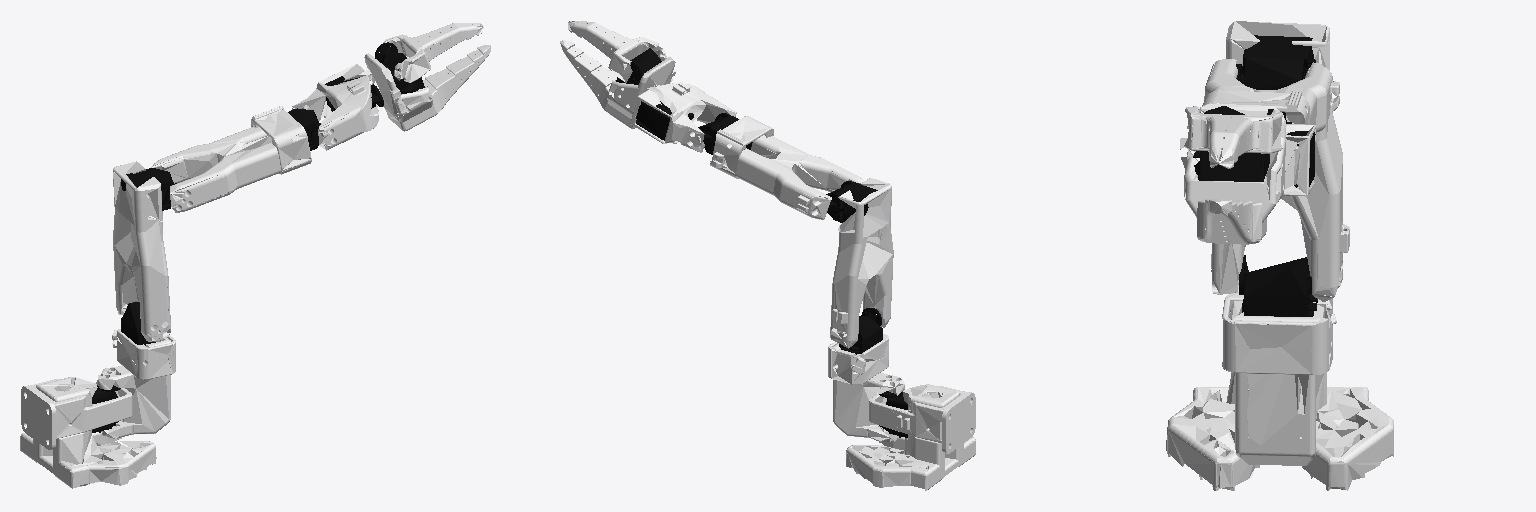
robot.urdf — so101_new_calib:
<?xml version="1.0" encoding="utf-8"?>
<!-- Generated using onshape-to-robot -->
<!-- Onshape https://cad.onshape.com/documents/7715cc284bb430fe6dab4ffd/w/4fd0791b683777b02f8d975a/e/826c553ede3b7592eb9ca800 -->
<robot name="so101_new_calib">

  <!-- Materials -->
  <material name="3d_printed">
    <color rgba="0.95 0.95 0.95 1.0"/>
  </material>
  <material name="sts3215">
    <color rgba="0.1 0.1 0.1 1.0"/>
  </material>

  <!-- Link base -->
  <link name="base_link">
    <inertial>
      <origin xyz="0.0137179 0 0.0334843" rpy="0 0 0"/>
      <mass value="0.147"/>
      <inertia ixx="0.000114686" ixy="0" ixz="0" iyy="0.000136117" iyz="0" izz="0.000130364"/>
    </inertial>
    <!-- Part base_motor_holder_so101_v1 -->
    <visual>
      <origin xyz="-0.00636471 0 -0.0024" rpy="1.5708 0 1.5708"/>
      <geometry>
        <mesh filename="meshes_lowpoly/base_motor_holder_so101_v1.stl"/>
      </geometry>
      <material name="3d_printed"/>
    </visual>
    <collision>
      <origin xyz="-0.00636471 0 -0.0024" rpy="1.5708 0 1.5708"/>
      <geometry>
        <mesh filename="meshes/base_motor_holder_so101_v1_convex.obj"/>
      </geometry>
    </collision>
    <!-- Part base_so101_v2 -->
    <visual>
      <origin xyz="-0.00636471 0 -0.0024" rpy="1.5708 0 1.5708"/>
      <geometry>
        <mesh filename="meshes_lowpoly/base_so101_v2.stl"/>
      </geometry>
      <material name="3d_printed"/>
    </visual>
    <collision>
      <origin xyz="-0.00636471 0 -0.0024" rpy="1.5708 0 1.5708"/>
      <geometry>
        <mesh filename="meshes/base_so101_v2_convex.obj"/>
      </geometry>
    </collision>
    <!-- Part sts3215_03a_v1 -->
    <visual>
      <origin xyz="0.0263353 0 0.0437" rpy="0 0 0"/>
      <geometry>
        <mesh filename="meshes_lowpoly/sts3215_03a_v1.stl"/>
      </geometry>
      <material name="sts3215"/>
    </visual>
    <collision>
      <origin xyz="0.0263353 0 0.0437" rpy="0 0 0"/>
      <geometry>
        <mesh filename="meshes/sts3215_03a_v1_convex.obj"/>
      </geometry>
    </collision>
    <!-- Part waveshare_mounting_plate_so101_v2 -->
    <visual>
      <origin xyz="-0.0309827 -0.000199441 0.0474" rpy="1.5708 0 1.5708"/>
      <geometry>
        <mesh filename="meshes_lowpoly/waveshare_mounting_plate_so101_v2.stl"/>
      </geometry>
      <material name="3d_printed"/>
    </visual>
    <collision>
      <origin xyz="-0.0309827 -0.000199441 0.0474" rpy="1.5708 0 1.5708"/>
      <geometry>
        <mesh filename="meshes/waveshare_mounting_plate_so101_v2_convex.obj"/>
      </geometry>
    </collision>
  </link>

  <!-- Link shoulder -->
  <link name="shoulder_link">
    <inertial>
      <origin xyz="-0.0307604 0 -0.0252713" rpy="0 0 0"/>
      <mass value="0.100006"/>
      <inertia ixx="8.3759e-05" ixy="0" ixz="0" iyy="8.10403e-05" iyz="0" izz="2.39783e-05"/>
    </inertial>
    <!-- Part sts3215_03a_v1_2 -->
    <visual>
      <origin xyz="-0.0303992 0.000422241 -0.0417" rpy="1.5708 1.5708 0"/>
      <geometry>
        <mesh filename="meshes_lowpoly/sts3215_03a_v1.stl"/>
      </geometry>
      <material name="sts3215"/>
    </visual>
    <collision>
      <origin xyz="-0.0303992 0.000422241 -0.0417" rpy="1.5708 1.5708 0"/>
      <geometry>
        <mesh filename="meshes/sts3215_03a_v1_convex.obj"/>
      </geometry>
    </collision>
    <!-- Part motor_holder_so101_base_v1 -->
    <visual>
      <origin xyz="-0.0675992 -0.000177759 0.0158499" rpy="1.5708 -1.5708 0"/>
      <geometry>
        <mesh filename="meshes_lowpoly/motor_holder_so101_base_v1.stl"/>
      </geometry>
      <material name="3d_printed"/>
    </visual>
    <collision>
      <origin xyz="-0.0675992 -0.000177759 0.0158499" rpy="1.5708 -1.5708 0"/>
      <geometry>
        <mesh filename="meshes/motor_holder_so101_base_v1_convex.obj"/>
      </geometry>
    </collision>
    <!-- Part rotation_pitch_so101_v1 -->
    <visual>
      <origin xyz="0.0122008 0 0.0464" rpy="-1.5708 0 0"/>
      <geometry>
        <mesh filename="meshes_lowpoly/rotation_pitch_so101_v1.stl"/>
      </geometry>
      <material name="3d_printed"/>
    </visual>
    <collision>
      <origin xyz="0.0122008 0 0.0464" rpy="-1.5708 0 0"/>
      <geometry>
        <mesh filename="meshes/rotation_pitch_so101_v1_convex.obj"/>
      </geometry>
    </collision>
  </link>

  <!-- Link upper_arm -->
  <link name="upper_arm_link">
    <inertial>
      <origin xyz="-0.0898471 -0.00838224 0.0184089" rpy="0 0 0"/>
      <mass value="0.103"/>
      <inertia ixx="4.08002e-05" ixy="-1.97819e-05" ixz="0" iyy="0.000147318" iyz="0" izz="0.000142487"/>
    </inertial>
    <!-- Part sts3215_03a_v1_3 -->
    <visual>
      <origin xyz="-0.11257 -0.0155 0.0187" rpy="-3.14159 0 -1.5708"/>
      <geometry>
        <mesh filename="meshes_lowpoly/sts3215_03a_v1.stl"/>
      </geometry>
      <material name="sts3215"/>
    </visual>
    <collision>
      <origin xyz="-0.11257 -0.0155 0.0187" rpy="-3.14159 0 -1.5708"/>
      <geometry>
        <mesh filename="meshes/sts3215_03a_v1_convex.obj"/>
      </geometry>
    </collision>
    <!-- Part upper_arm_so101_v1 -->
    <visual>
      <origin xyz="-0.065085 0.012 0.0182" rpy="3.14159 0 0"/>
      <geometry>
        <mesh filename="meshes_lowpoly/upper_arm_so101_v1.stl"/>
      </geometry>
      <material name="3d_printed"/>
    </visual>
    <collision>
      <origin xyz="-0.065085 0.012 0.0182" rpy="3.14159 0 0"/>
      <geometry>
        <mesh filename="meshes/upper_arm_so101_v1_convex.obj"/>
      </geometry>
    </collision>
  </link>

  <!-- Link lower_arm -->
  <link name="lower_arm_link">
    <inertial>
      <origin xyz="-0.0980701 0.00324376 0.0182831" rpy="0 0 0"/>
      <mass value="0.104"/>
      <inertia ixx="2.87438e-05" ixy="0" ixz="0" iyy="0.000159844" iyz="0" izz="0.00014529"/>
    </inertial>
    <!-- Part under_arm_so101_v1 -->
    <visual>
      <origin xyz="-0.0648499 -0.032 0.0182" rpy="3.14159 0 0"/>
      <geometry>
        <mesh filename="meshes_lowpoly/under_arm_so101_v1.stl"/>
      </geometry>
      <material name="3d_printed"/>
    </visual>
    <collision>
      <origin xyz="-0.0648499 -0.032 0.0182" rpy="3.14159 0 0"/>
      <geometry>
        <mesh filename="meshes/under_arm_so101_v1_convex.obj"/>
      </geometry>
    </collision>
    <!-- Part motor_holder_so101_wrist_v1 -->
    <visual>
      <origin xyz="-0.0648499 -0.032 0.018" rpy="-3.14159 0 0"/>
      <geometry>
        <mesh filename="meshes_lowpoly/motor_holder_so101_wrist_v1.stl"/>
      </geometry>
      <material name="3d_printed"/>
    </visual>
    <collision>
      <origin xyz="-0.0648499 -0.032 0.018" rpy="-3.14159 0 0"/>
      <geometry>
        <mesh filename="meshes/motor_holder_so101_wrist_v1_convex.obj"/>
      </geometry>
    </collision>
    <!-- Part sts3215_03a_v1_4 -->
    <visual>
      <origin xyz="-0.1224 0.0052 0.0187" rpy="-3.14159 0 -3.14159"/>
      <geometry>
        <mesh filename="meshes_lowpoly/sts3215_03a_v1.stl"/>
      </geometry>
      <material name="sts3215"/>
    </visual>
    <collision>
      <origin xyz="-0.1224 0.0052 0.0187" rpy="-3.14159 0 -3.14159"/>
      <geometry>
        <mesh filename="meshes/sts3215_03a_v1_convex.obj"/>
      </geometry>
    </collision>
  </link>

  <!-- Link wrist -->
  <link name="wrist_link">
    <inertial>
      <origin xyz="-0.000103312 -0.0386143 0.0281156" rpy="0 0 0"/>
      <mass value="0.079"/>
      <inertia ixx="3.68263e-05" ixy="0" ixz="0" iyy="2.5391e-05" iyz="0" izz="2.1e-05"/>
    </inertial>
    <!-- Part sts3215_03a_no_horn_v1 -->
    <visual>
      <origin xyz="0 -0.0424 0.0306" rpy="1.5708 1.5708 0"/>
      <geometry>
        <mesh filename="meshes_lowpoly/sts3215_03a_no_horn_v1.stl"/>
      </geometry>
      <material name="sts3215"/>
    </visual>
    <collision>
      <origin xyz="0 -0.0424 0.0306" rpy="1.5708 1.5708 0"/>
      <geometry>
        <mesh filename="meshes/sts3215_03a_no_horn_v1_convex.obj"/>
      </geometry>
    </collision>
    <!-- Part wrist_roll_pitch_so101_v2 -->
    <visual>
      <origin xyz="0 -0.028 0.0181" rpy="-1.5708 -1.5708 0"/>
      <geometry>
        <mesh filename="meshes_lowpoly/wrist_roll_pitch_so101_v2.stl"/>
      </geometry>
      <material name="3d_printed"/>
    </visual>
    <collision>
      <origin xyz="0 -0.028 0.0181" rpy="-1.5708 -1.5708 0"/>
      <geometry>
        <mesh filename="meshes/wrist_roll_pitch_so101_v2_convex.obj"/>
      </geometry>
    </collision>
  </link>

  <!-- Link gripper -->
  <link name="gripper_link">
    <inertial>
      <origin xyz="0.000213627 0.000245138 -0.025187" rpy="0 0 0"/>
      <mass value="0.087"/>
      <inertia ixx="2.75087e-05" ixy="-3.35241e-07" ixz="-5.7352e-06" iyy="4.33657e-05" iyz="0" izz="3.45059e-05"/>
    </inertial>
    <!-- Part sts3215_03a_v1_5 -->
    <visual>
      <origin xyz="0.0077 0.0001 -0.0234" rpy="-1.5708 0 0"/>
      <geometry>
        <mesh filename="meshes_lowpoly/sts3215_03a_v1.stl"/>
      </geometry>
      <material name="sts3215"/>
    </visual>
    <collision>
      <origin xyz="0.0077 0.0001 -0.0234" rpy="-1.5708 0 0"/>
      <geometry>
        <mesh filename="meshes/sts3215_03a_v1_convex.obj"/>
      </geometry>
    </collision>
    <!-- Part wrist_roll_follower_so101_v1 -->
    <visual>
      <origin xyz="0 -0.000218214 0.000949706" rpy="-3.14159 0 0"/>
      <geometry>
        <mesh filename="meshes_lowpoly/wrist_roll_follower_so101_v1.stl"/>
      </geometry>
      <material name="3d_printed"/>
    </visual>
    <collision>
      <origin xyz="0 -0.000218214 0.000949706" rpy="-3.14159 0 0"/>
      <geometry>
        <mesh filename="meshes/Fixed_part_1.obj"/>
      </geometry>
    </collision>
    <collision>
      <origin xyz="0 -0.000218214 0.000949706" rpy="-3.14159 0 0"/>
      <geometry>
        <mesh filename="meshes/Fixed_part_2.obj"/>
      </geometry>
    </collision>
  </link>

  <!-- Gripper frame (dummy link + fixed joint) -->
  <link name="gripper_frame_link">
    <origin xyz="0 0 0" rpy="0 -0 0"/>
    <inertial>
      <origin xyz="0 0 0" rpy="0 0 0"/>
      <mass value="1e-9"/>
      <inertia ixx="0" ixy="0" ixz="0" iyy="0" iyz="0" izz="0"/>
    </inertial>
  </link>

  <joint name="gripper_frame_joint" type="fixed">
    <origin xyz="-0.0079 -0.000218121 -0.0981274" rpy="0 3.14159 0"/>
    <parent link="gripper_link"/>
    <child link="gripper_frame_link"/>
    <axis xyz="0 0 0"/>
  </joint>

  <!-- Link moving_jaw_so101_v1 -->
  <link name="moving_jaw_so101_v1_link">
    <inertial>
      <origin xyz="-0.00157495 -0.0300244 0.0192755" rpy="0 0 0"/>
      <mass value="0.012"/>
      <inertia ixx="6.61427e-06" ixy="0" ixz="0" iyy="1.89032e-06" iyz="0" izz="5.28738e-06"/>
    </inertial>
    <!-- Part moving_jaw_so101_v1 -->
    <visual>
      <origin xyz="0 0 0.0189" rpy="0 0 0"/>
      <geometry>
        <mesh filename="meshes_lowpoly/moving_jaw_so101_v1.stl"/>
      </geometry>
      <material name="3d_printed"/>
    </visual>
    <collision>
      <origin xyz="0 0 0.0189" rpy="0 0 0"/>
      <geometry>
        <mesh filename="meshes/moving_jaw_so101_v1_convex.obj"/>
      </geometry>
    </collision>
  </link>

  <!-- Joint from gripper to moving_jaw_so101_v1 -->
  <joint name="gripper" type="revolute">
    <origin xyz="0.0202 0.0188 -0.0234" rpy="1.5708 0 0"/>
    <parent link="gripper_link"/>
    <child link="moving_jaw_so101_v1_link"/>
    <axis xyz="0 0 1"/>
    <limit effort="10" velocity="10" lower="-0.174533" upper="2.0944"/>
  </joint>

  <transmission name="gripper_trans">
    <type>transmission_interface/SimpleTransmission</type>
    <joint name="gripper">
      <hardwareInterface>hardware_interface/PositionJointInterface</hardwareInterface>
    </joint>
    <actuator name="motor6">
      <hardwareInterface>hardware_interface/PositionJointInterface</hardwareInterface>
      <mechanicalReduction>1</mechanicalReduction>
    </actuator>
  </transmission>

  <!-- Joint from wrist to gripper -->
  <joint name="wrist_roll" type="revolute">
    <origin xyz="0 -0.0611 0.0181" rpy="1.5708 0 3.09159"/>
    <parent link="wrist_link"/>
    <child link="gripper_link"/>
    <axis xyz="0 0 1"/>
    <limit effort="10" velocity="10" lower="-2.93145" upper="2.92988"/>
  </joint>

  <transmission name="wrist_roll_trans">
    <type>transmission_interface/SimpleTransmission</type>
    <joint name="wrist_roll">
      <hardwareInterface>hardware_interface/PositionJointInterface</hardwareInterface>
    </joint>
    <actuator name="motor5">
      <hardwareInterface>hardware_interface/PositionJointInterface</hardwareInterface>
      <mechanicalReduction>1</mechanicalReduction>
    </actuator>
  </transmission>

  <!-- Joint from lower_arm to wrist -->
  <joint name="wrist_flex" type="revolute">
    <origin xyz="-0.1349 0.0052 0" rpy="0 0 -1.6708"/>
    <parent link="lower_arm_link"/>
    <child link="wrist_link"/>
    <axis xyz="0 0 1"/>
    <limit effort="0" velocity="10" lower="-1.81130" upper="1.80816"/>
  </joint>

  <transmission name="wrist_flex_trans">
    <type>transmission_interface/SimpleTransmission</type>
    <joint name="wrist_flex">
      <hardwareInterface>hardware_interface/PositionJointInterface</hardwareInterface>
    </joint>
    <actuator name="motor4">
      <hardwareInterface>hardware_interface/PositionJointInterface</hardwareInterface>
      <mechanicalReduction>1</mechanicalReduction>
    </actuator>
  </transmission>

  <!-- Joint from upper_arm to lower_arm -->
  <!-- Note: 5-degree calibration offset applied to joint limits -->
  <joint name="elbow_flex" type="revolute">
    <origin xyz="-0.11257 -0.028 0" rpy="0 0 1.4408"/>
    <parent link="upper_arm_link"/>
    <child link="lower_arm_link"/>
    <axis xyz="0 0 1"/>
    <limit effort="0" velocity="10" lower="-1.70012" upper="1.7046"/>
  </joint>

  <transmission name="elbow_flex_trans">
    <type>transmission_interface/SimpleTransmission</type>
    <joint name="elbow_flex">
      <hardwareInterface>hardware_interface/PositionJointInterface</hardwareInterface>
    </joint>
    <actuator name="motor3">
      <hardwareInterface>hardware_interface/PositionJointInterface</hardwareInterface>
      <mechanicalReduction>1</mechanicalReduction>
    </actuator>
  </transmission>

  <!-- Joint from shoulder to upper_arm -->
  <joint name="shoulder_lift" type="revolute">
    <origin xyz="-0.0303992 -0.0182778 -0.0542" rpy="-1.5708 -1.6208 0.03"/>
    <parent link="shoulder_link"/>
    <child link="upper_arm_link"/>
    <axis xyz="0 0 1"/>
    <limit effort="0" velocity="10" lower="-1.82736" upper="1.83346"/>
  </joint>

  <transmission name="shoulder_lift_trans">
    <type>transmission_interface/SimpleTransmission</type>
    <joint name="shoulder_lift">
      <hardwareInterface>hardware_interface/PositionJointInterface</hardwareInterface>
    </joint>
    <actuator name="motor2">
      <hardwareInterface>hardware_interface/PositionJointInterface</hardwareInterface>
      <mechanicalReduction>1</mechanicalReduction>
    </actuator>
  </transmission>

  <!-- Joint from base to shoulder -->
  <joint name="shoulder_pan" type="revolute">
    <origin xyz="0.0388353 0 0.0624" rpy="3.14159 0 -3.20159"/>
    <parent link="base_link"/>
    <child link="shoulder_link"/>
    <axis xyz="0 0 1"/>
    <limit effort="0" velocity="10" lower="-2.15967042" upper="2.03383"/>
  </joint>

  <transmission name="shoulder_pan_trans">
    <type>transmission_interface/SimpleTransmission</type>
    <joint name="shoulder_pan">
      <hardwareInterface>hardware_interface/PositionJointInterface</hardwareInterface>
    </joint>
    <actuator name="motor1">
      <hardwareInterface>hardware_interface/PositionJointInterface</hardwareInterface>
      <mechanicalReduction>1</mechanicalReduction>
    </actuator>
  </transmission> 

  <!-- fake joints for useful data -->
  <joint name="finger1_tip_joint" type="fixed">
    <origin rpy="0 0 0" xyz="-0.002 -0.0 -0.092"/>
    <parent link="gripper_link"/>
    <child link="finger1_tip"/>
  </joint>
  <link name="finger1_tip">
    <!-- <visual>
      <origin xyz="0 0 0" rpy="0 0 0" />
      <geometry><sphere radius="0.005" /></geometry>
      <material name="red"><color rgba="1 0 0 1"/></material>
    </visual> -->
  </link>

  <joint name="finger2_tip_joint" type="fixed">
    <origin rpy="0 0 0" xyz="-0.01 -0.077 0.02"/>
    <parent link="moving_jaw_so101_v1_link"/>
    <child link="finger2_tip"/>
  </joint>
  <link name="finger2_tip">
    <!-- <visual>
      <origin xyz="0 0 0" rpy="0 0 0" />
      <geometry><sphere radius="0.005" /></geometry>
      <material name="red"><color rgba="1 0 0 1"/></material>
    </visual> -->
  </link>

</robot>

--- Facts derived from the render (not from the file) ---
The picture shows the robot from 3 angles, left to right: view 1: azimuth 30°, elevation 25°; view 2: azimuth 150°, elevation 25°; view 3: azimuth 270°, elevation 25°; orthographic projection.
Robot: so101_new_calib — 10 links, 9 joints (6 revolute, 3 fixed); root link base_link; default pose: all joints at 0.
Links seen in each view (by area): view 1: base_link, lower_arm_link, upper_arm_link, shoulder_link, gripper_link, wrist_link, moving_jaw_so101_v1_link; view 2: base_link, upper_arm_link, lower_arm_link, shoulder_link, wrist_link, gripper_link, moving_jaw_so101_v1_link; view 3: shoulder_link, upper_arm_link, base_link, gripper_link, lower_arm_link, moving_jaw_so101_v1_link, wrist_link.
Link boxes in pixels (x1,y1,x2,y2): base_link: [20, 377, 156, 488]; lower_arm_link: [151, 106, 320, 212]; upper_arm_link: [113, 161, 176, 341]; shoulder_link: [96, 302, 175, 438]; gripper_link: [364, 42, 490, 131]; wrist_link: [292, 64, 383, 150]; moving_jaw_so101_v1_link: [383, 23, 483, 82]; base_link: [846, 384, 975, 490]; upper_arm_link: [826, 178, 893, 348]; lower_arm_link: [698, 113, 863, 219]; shoulder_link: [828, 308, 904, 441]; wrist_link: [630, 82, 736, 152]; gripper_link: [560, 39, 675, 128]; moving_jaw_so101_v1_link: [568, 21, 666, 82]; shoulder_link: [1222, 255, 1336, 465]; upper_arm_link: [1211, 21, 1349, 301]; base_link: [1166, 280, 1393, 490]; gripper_link: [1180, 103, 1285, 244]; lower_arm_link: [1202, 59, 1339, 132]; moving_jaw_so101_v1_link: [1184, 106, 1282, 168]; wrist_link: [1187, 124, 1315, 196].
Size in the robot's own frame: 0.4153 by 0.1122 by 0.3298 metres.
17 mesh visuals loaded from 13 distinct referenced files (13 binary STL).
